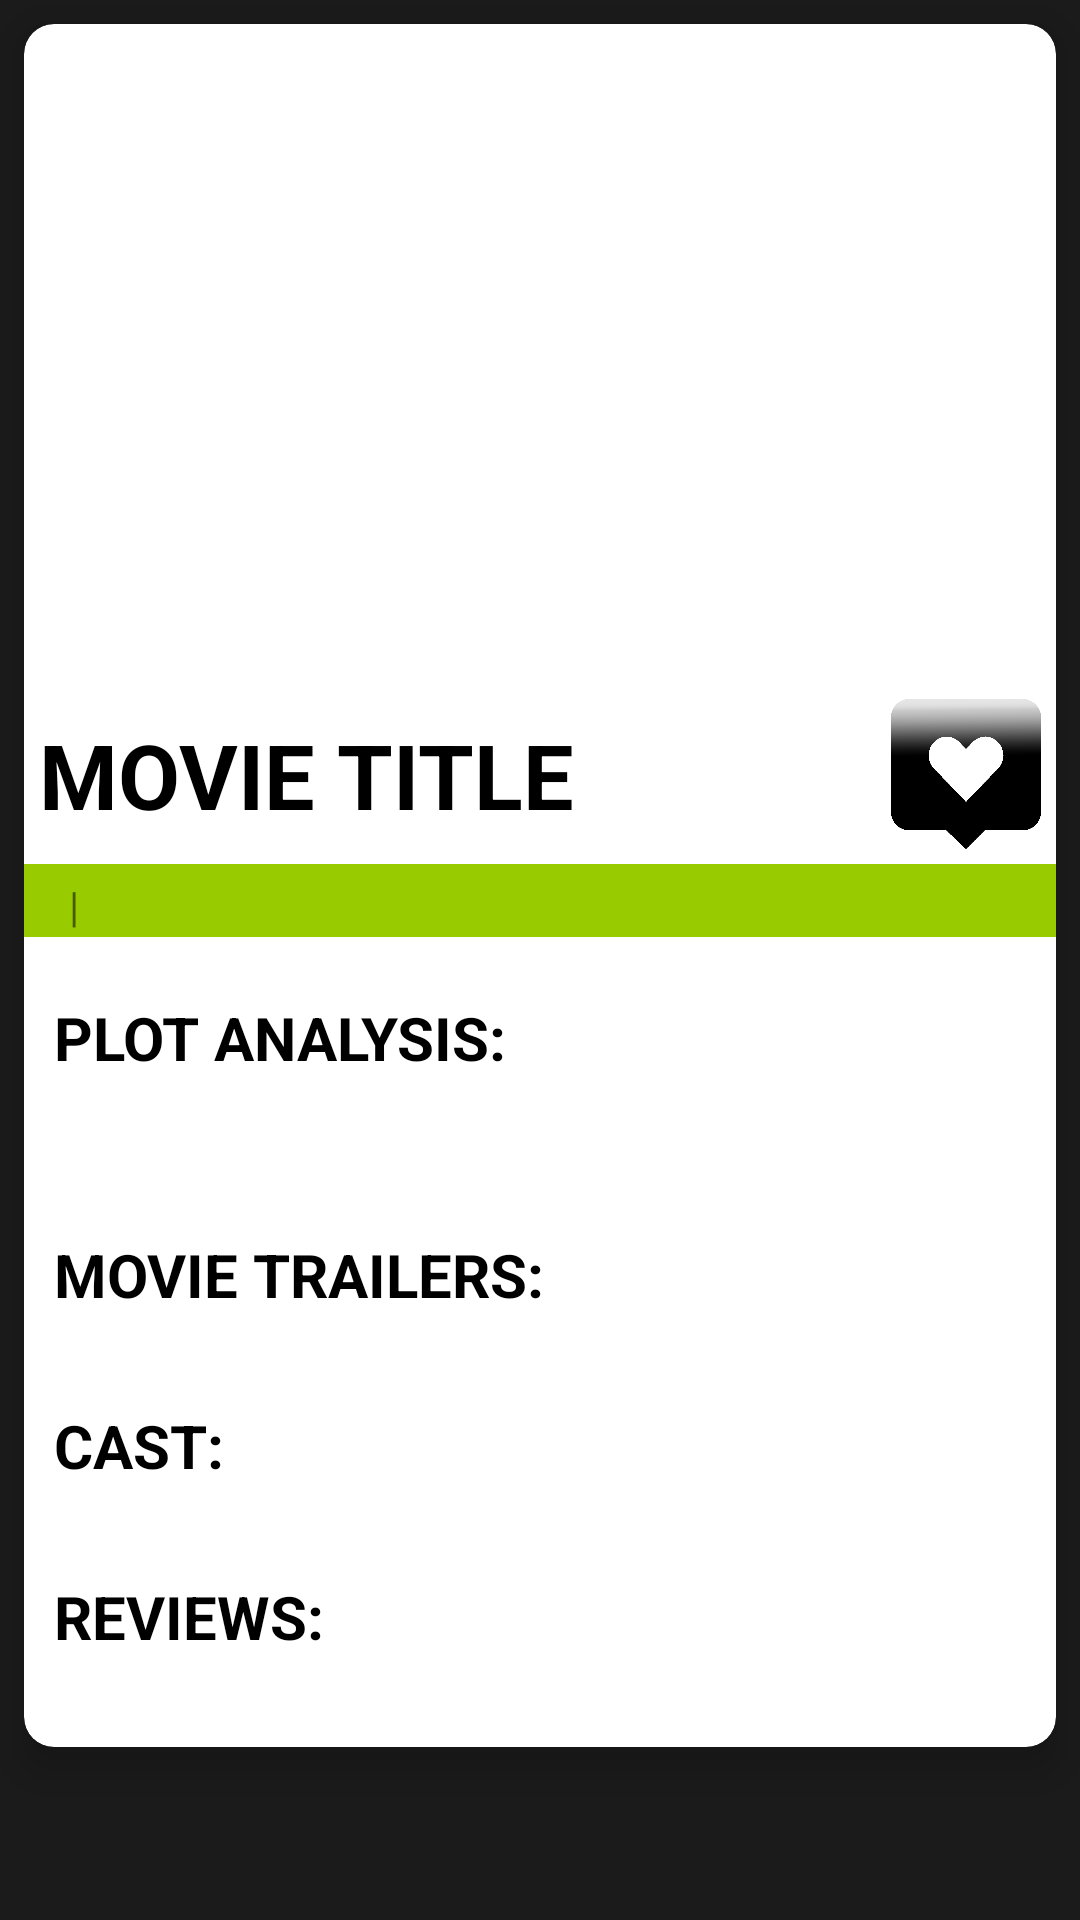

Icons on this 1080px×1920px Android screen, each with its box as detection(x1, y1, x2, y2):
favorite: detection(891, 699, 1041, 849)
